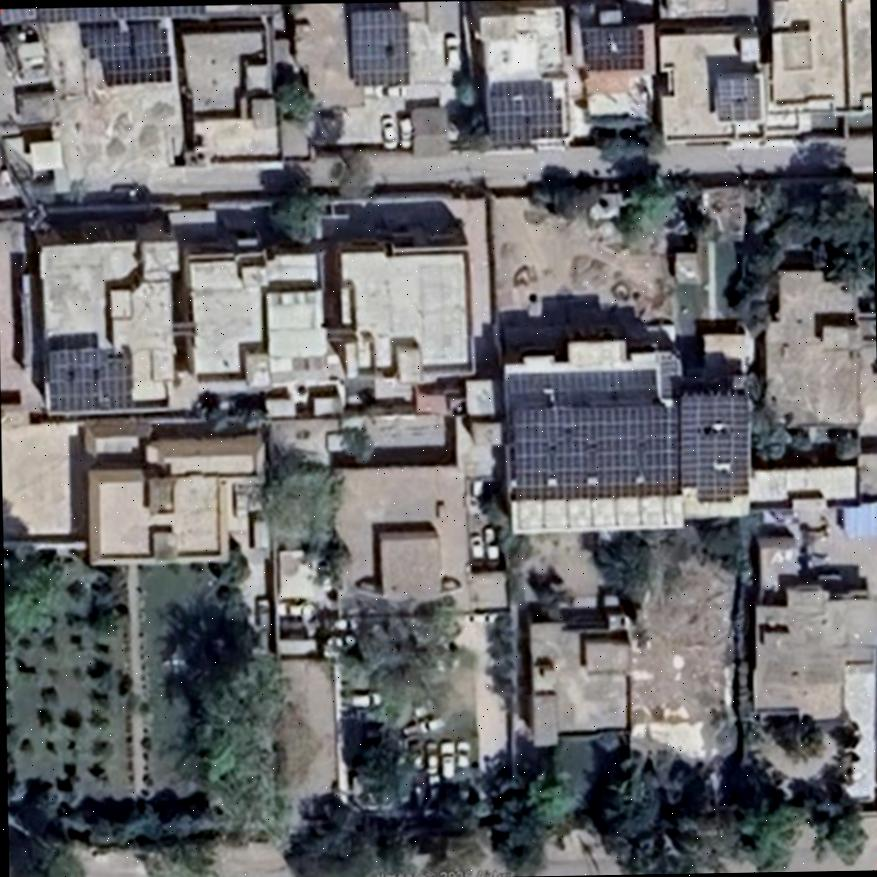Solarpanel: (513, 395, 753, 499), (83, 17, 174, 86), (50, 344, 131, 409), (488, 78, 563, 147), (346, 10, 412, 82), (0, 4, 207, 26), (582, 29, 645, 68), (717, 71, 762, 119)
